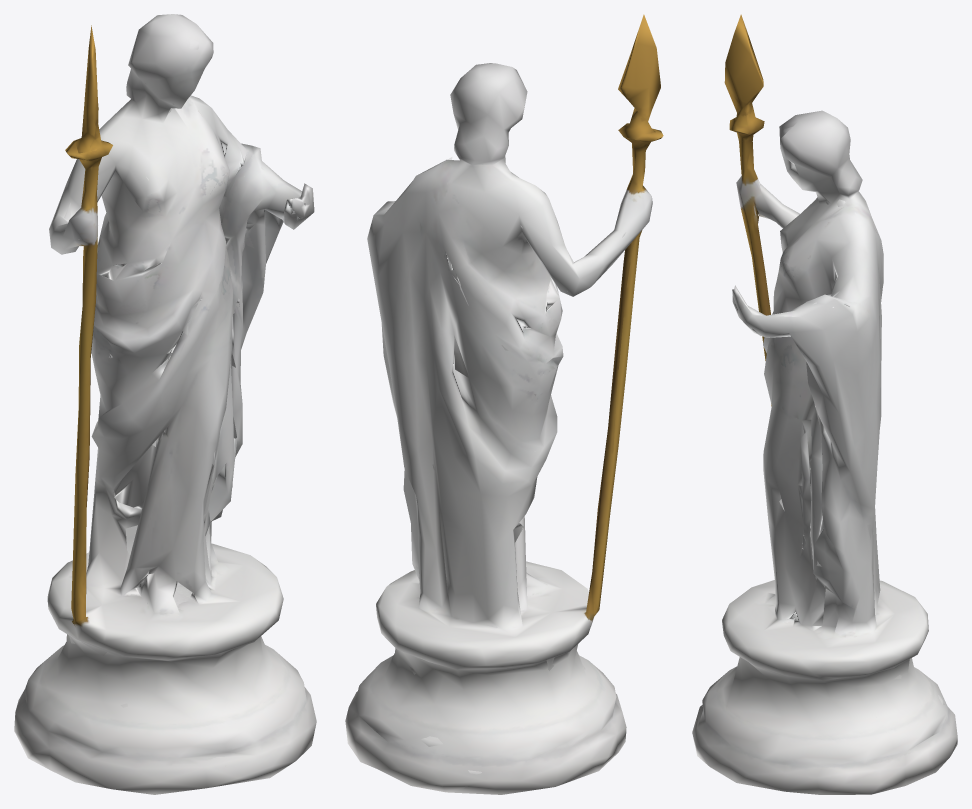
The model's file is statue.glb.
The picture shows the model from 3 angles, left to right: view 1: azimuth 30°, elevation 25°; view 2: azimuth 150°, elevation 25°; view 3: azimuth 270°, elevation 25°; orthographic projection. The views are drawn at different scales.
Bounding box in the file's own units: 0.3668 × 0.9859 × 0.3505.
1 material, 1 textured.
